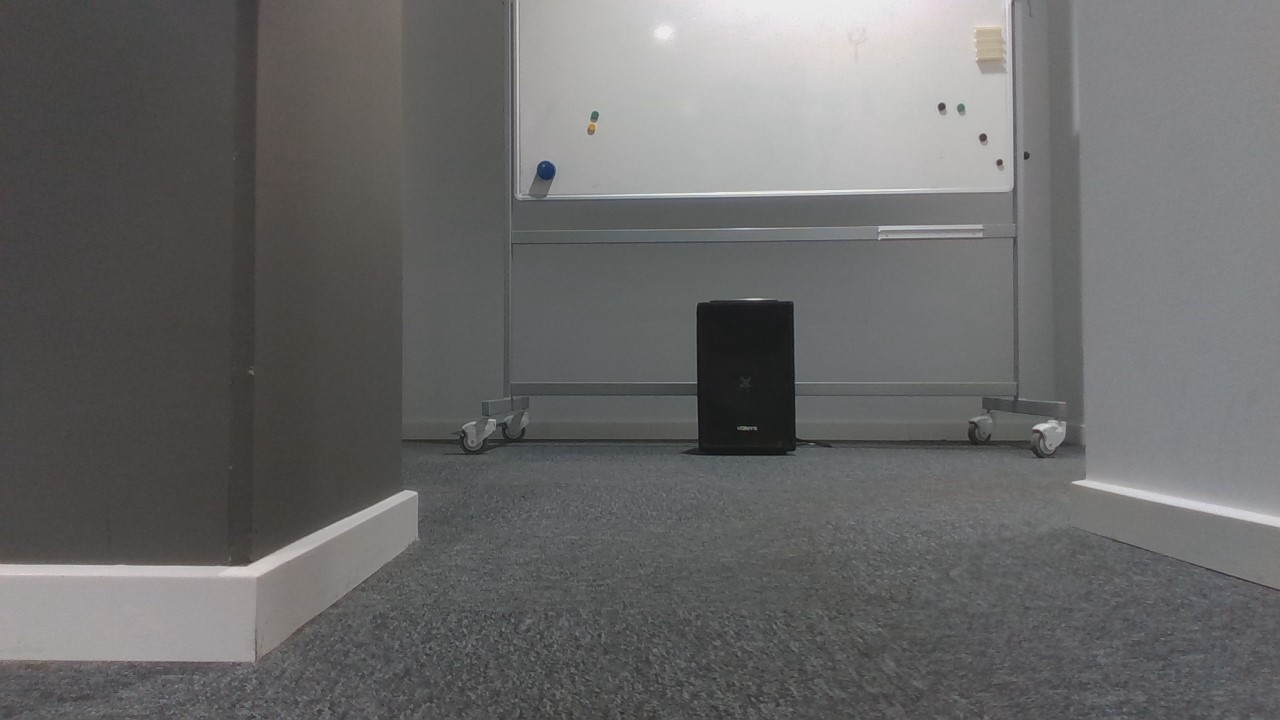alfa: (533, 155, 558, 184)
